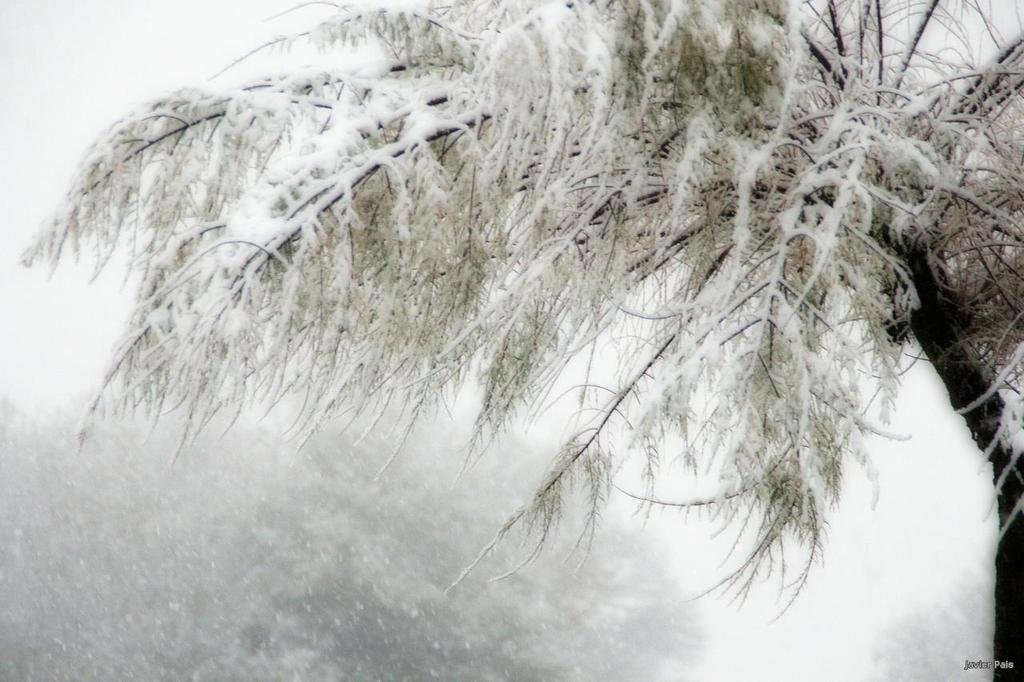Tree: (15, 0, 1024, 682)
